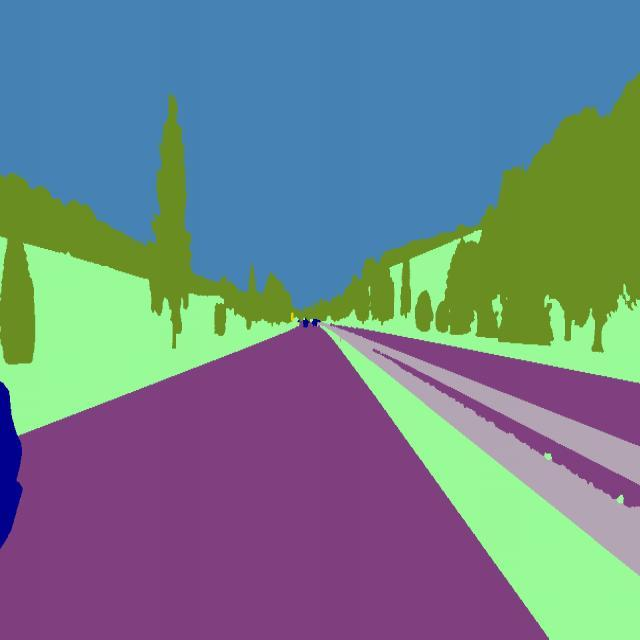safe: (309, 314, 322, 336), (300, 312, 309, 332)
unsafe: (0, 360, 33, 588)
